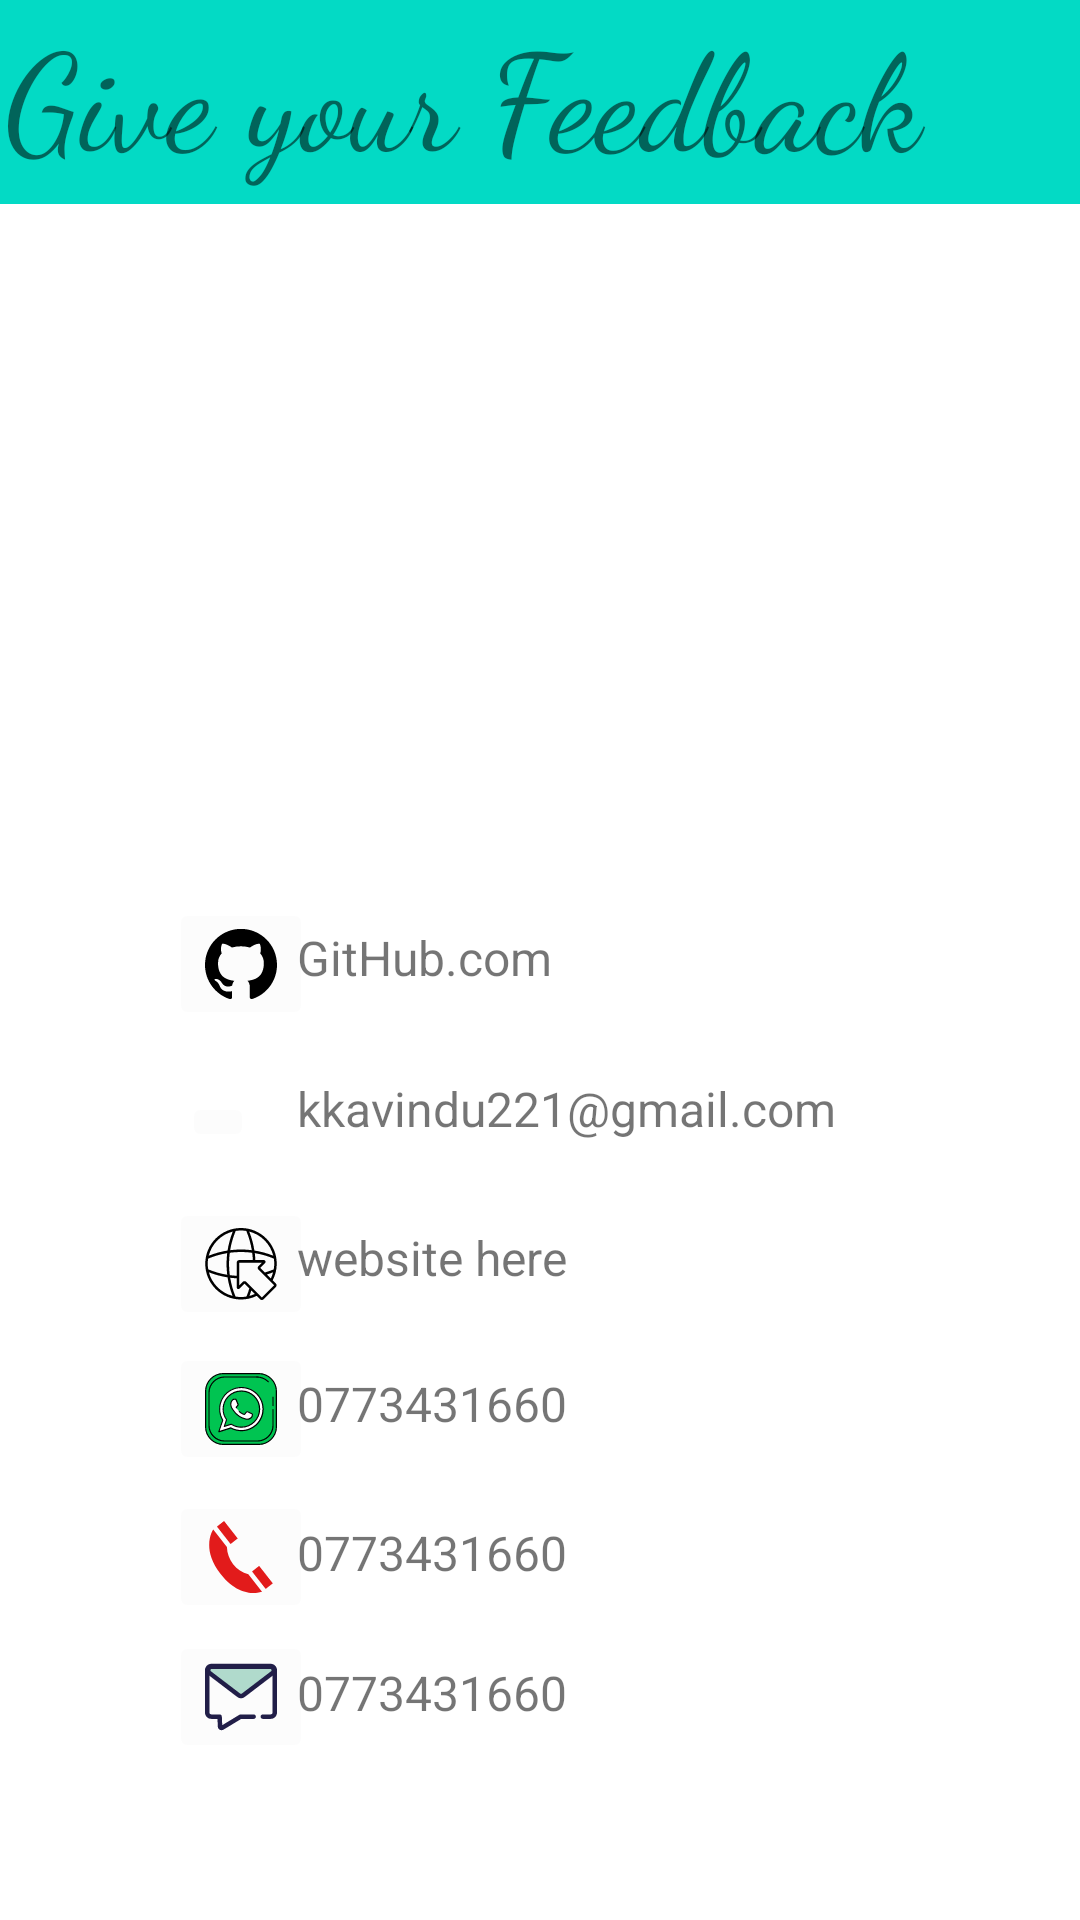

Icons on this 1080*1920 Android screen, each with its box as (x1, y1, x2, y2):
call: (209, 1521, 273, 1593)
cweb: (205, 1228, 277, 1300)
